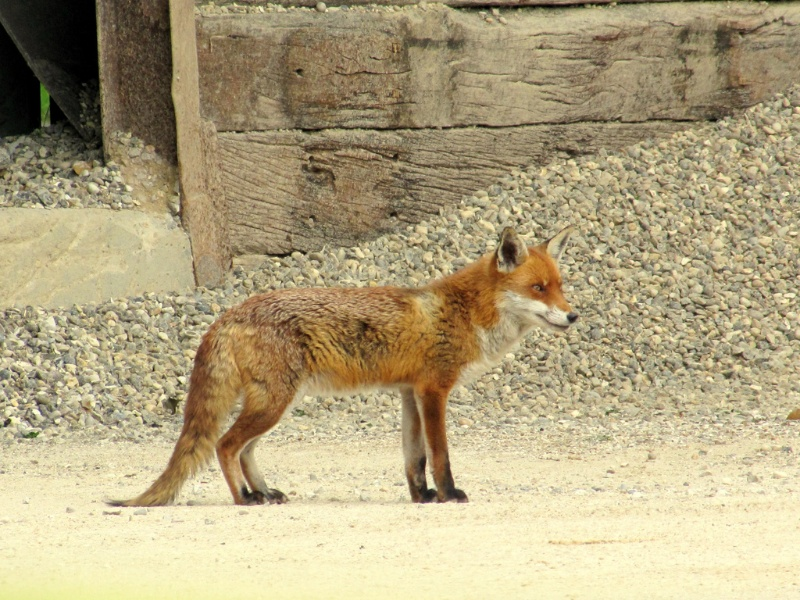fox: (102, 219, 587, 505)
